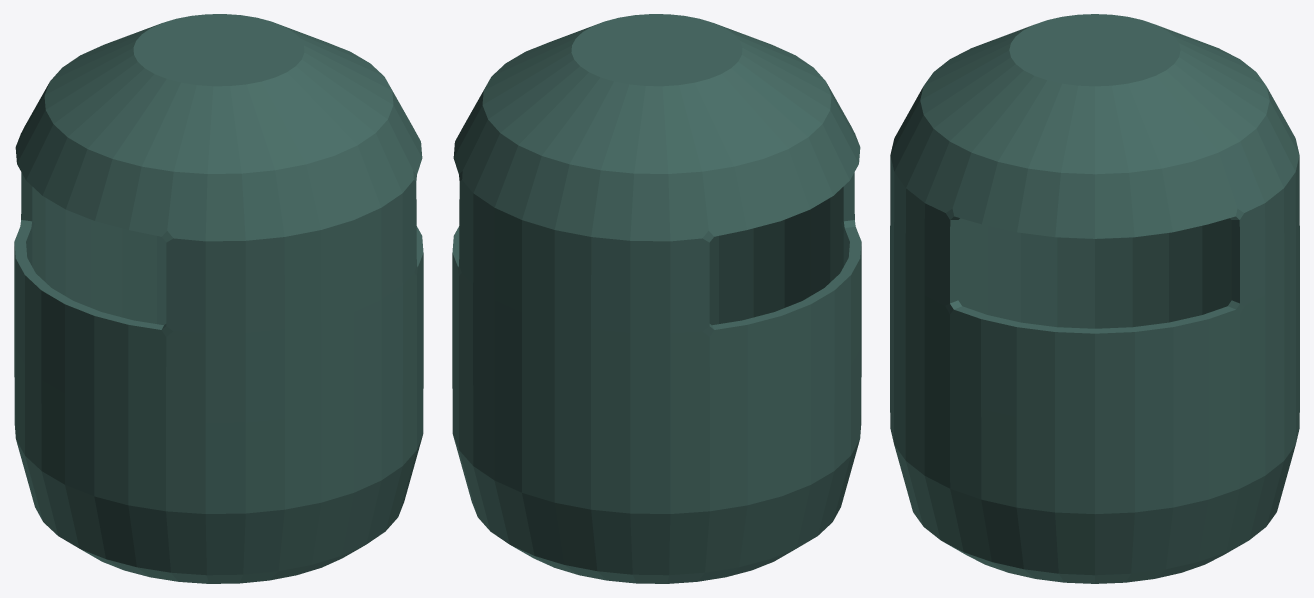
File: trash-can.glb
The picture shows the model from 3 angles, left to right: view 1: azimuth 30°, elevation 25°; view 2: azimuth 150°, elevation 25°; view 3: azimuth 270°, elevation 25°; orthographic projection.
Parts seen in each view (by area): view 1: Circle; view 2: Circle; view 3: Circle.
Part boxes in pixels (box(x1,y1,x2,y2)): Circle: box(14, 14, 423, 583); Circle: box(452, 14, 861, 583); Circle: box(890, 14, 1299, 583).
Bounding box in the file's own units: 2.12 × 2.67 × 2.12.
